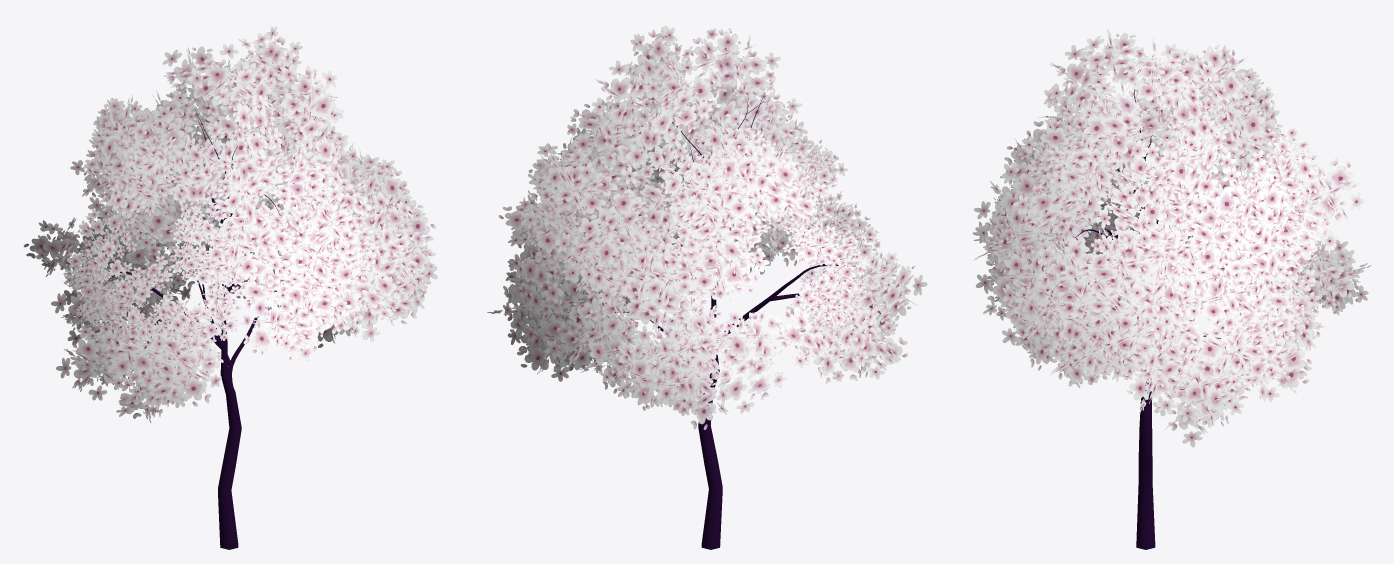
The model's file is Tree3.4_LOD0.fbx.
3 views of the same model, side by side, from view 1: azimuth 30°, elevation 25°; view 2: azimuth 150°, elevation 25°; view 3: azimuth 270°, elevation 25° (orthographic). The views are drawn at different scales.
Parts seen in each view (by area): view 1: Leaves.001, Trunk.001; view 2: Leaves.001, Trunk.001; view 3: Leaves.001, Trunk.001.
Part boxes in pixels (x1,y1,x2,y2): Leaves.001: (23,26,437,422); Trunk.001: (89,109,290,549); Leaves.001: (487,25,927,429); Trunk.001: (614,92,889,549); Leaves.001: (972,29,1371,447); Trunk.001: (1064,70,1224,549).
Bounding box in the file's own units: 575 × 759 × 537.
